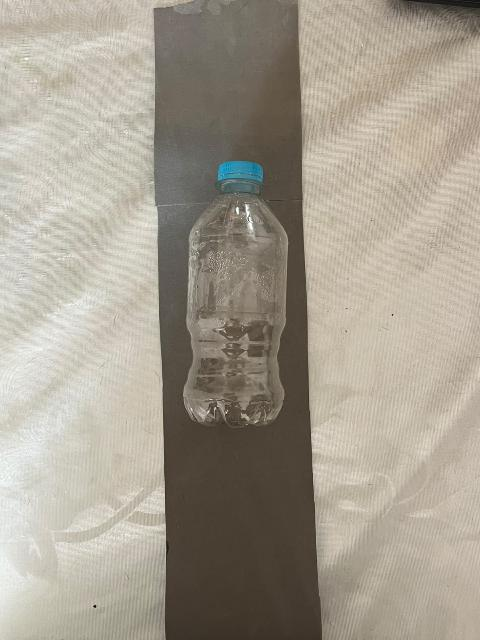PET: (164, 137, 311, 447)
